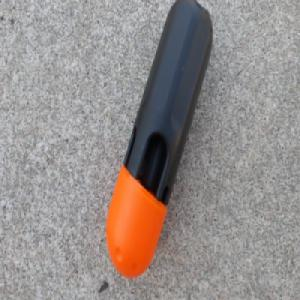PlasticPart: (104, 0, 213, 280)
